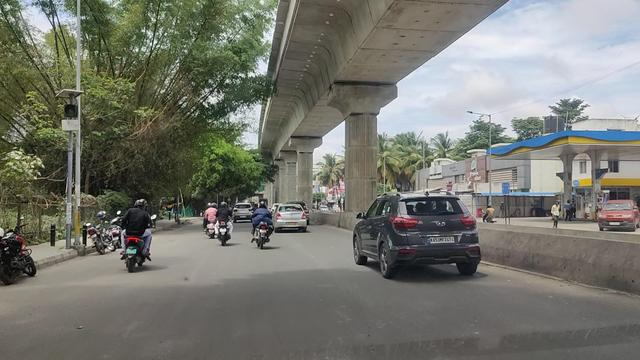LMV: (362, 188, 485, 286), (125, 205, 155, 279), (251, 200, 277, 253), (213, 200, 231, 246)
